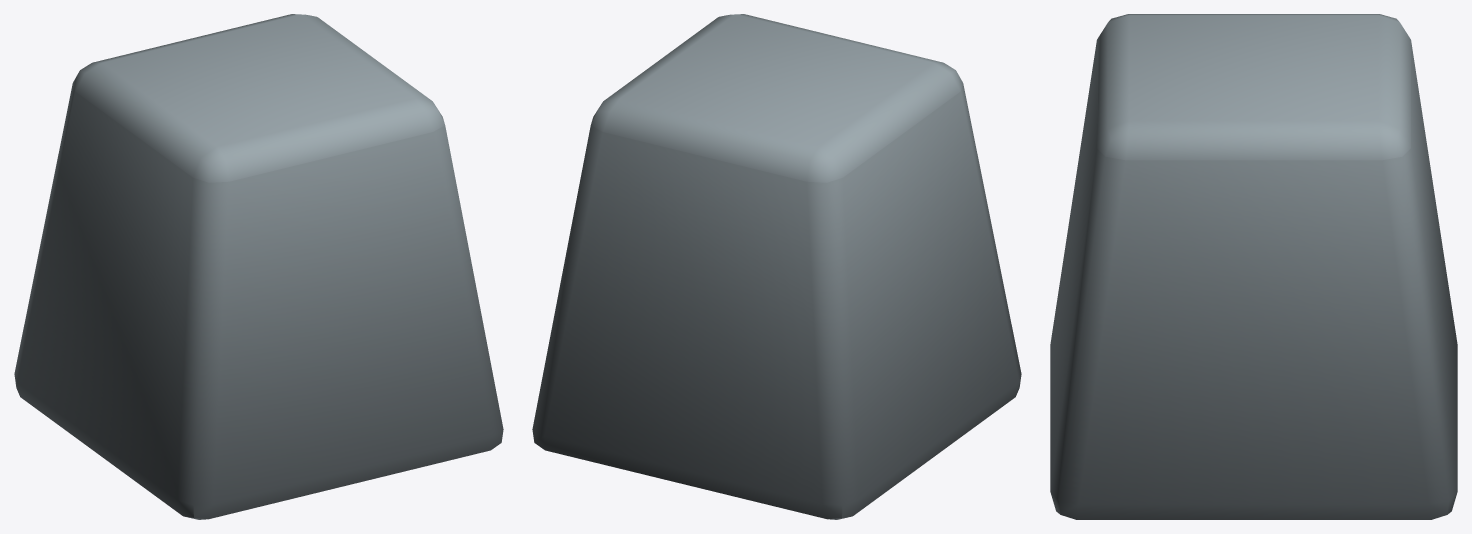
Rendered from Rock_2_D_Color1.glb.
The picture shows the model from 3 angles, left to right: view 1: azimuth 30°, elevation 25°; view 2: azimuth 150°, elevation 25°; view 3: azimuth 270°, elevation 25°; orthographic projection. The views are drawn at different scales.
Visible parts, largest first — view 1: Rock_2_D_Color1; view 2: Rock_2_D_Color1; view 3: Rock_2_D_Color1.
Boxes of the visible parts, <box> form: Rock_2_D_Color1: <box>14,14,503,519</box>; Rock_2_D_Color1: <box>532,14,1021,519</box>; Rock_2_D_Color1: <box>1050,14,1457,519</box>.
Size of the model in its own units: 1.71 by 1.74 by 1.71.
1 material, 1 textured.
